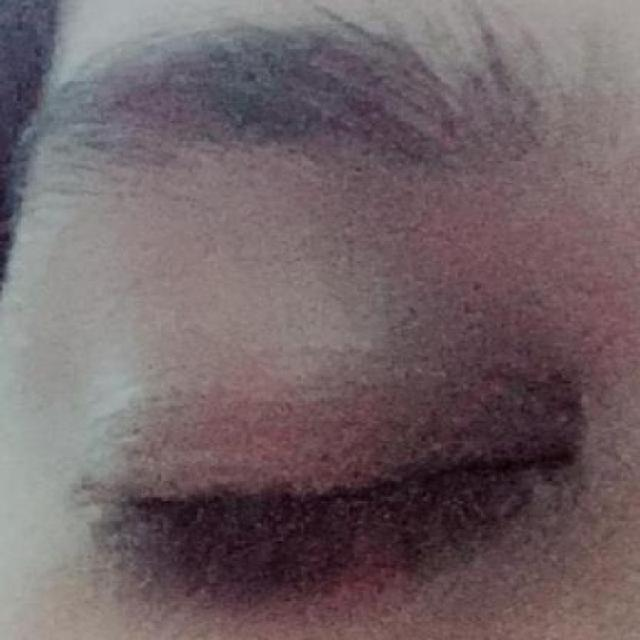drowsy: (95, 359, 576, 639)
